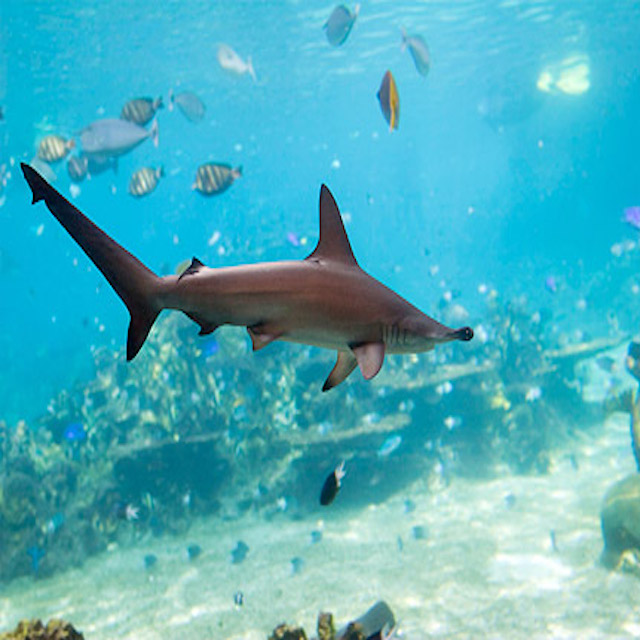hammerhead: (43, 152, 460, 371)
